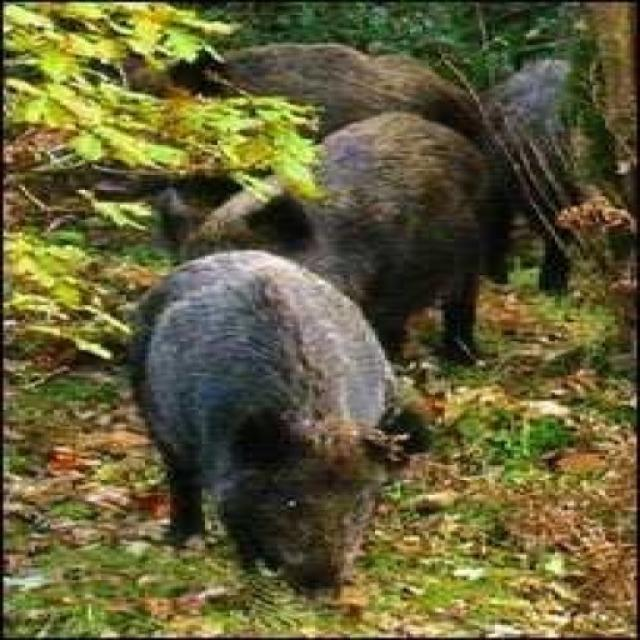pig: (140, 258, 433, 577)
